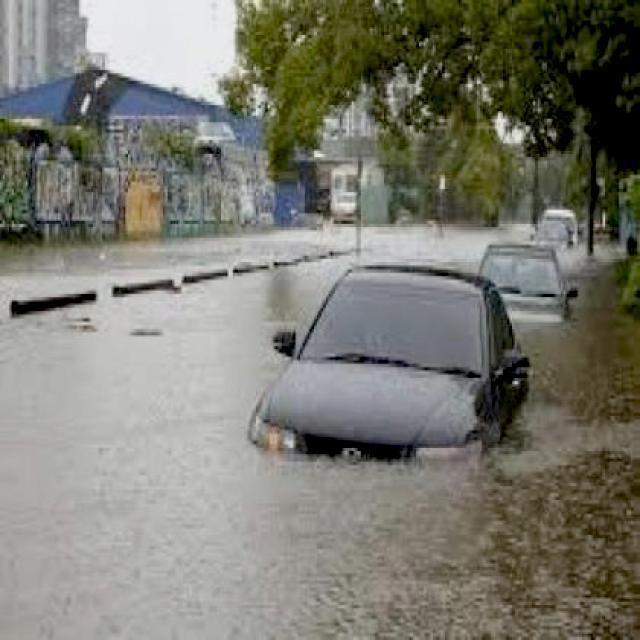water: (0, 222, 637, 639), (3, 221, 353, 298)
